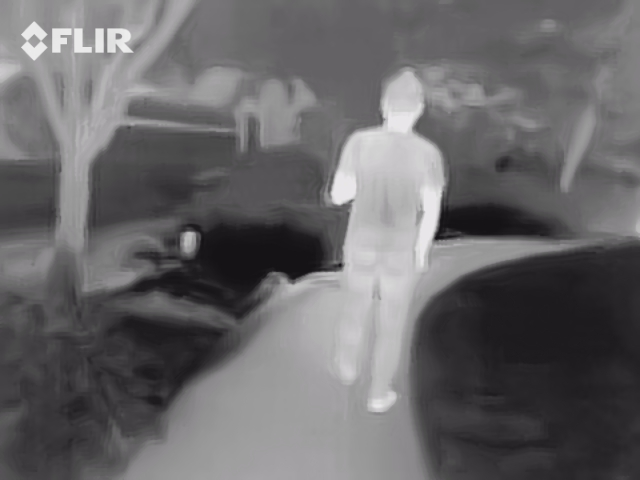head: (377, 66, 428, 127)
